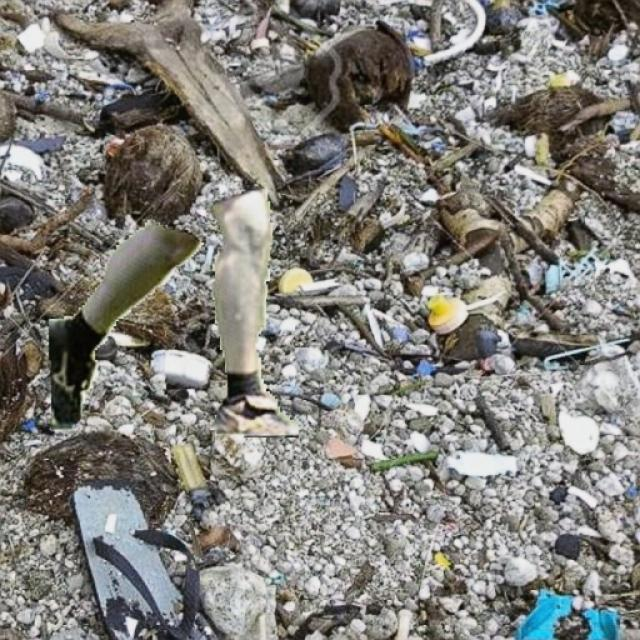Person in Rubble: (49, 188, 298, 436)
